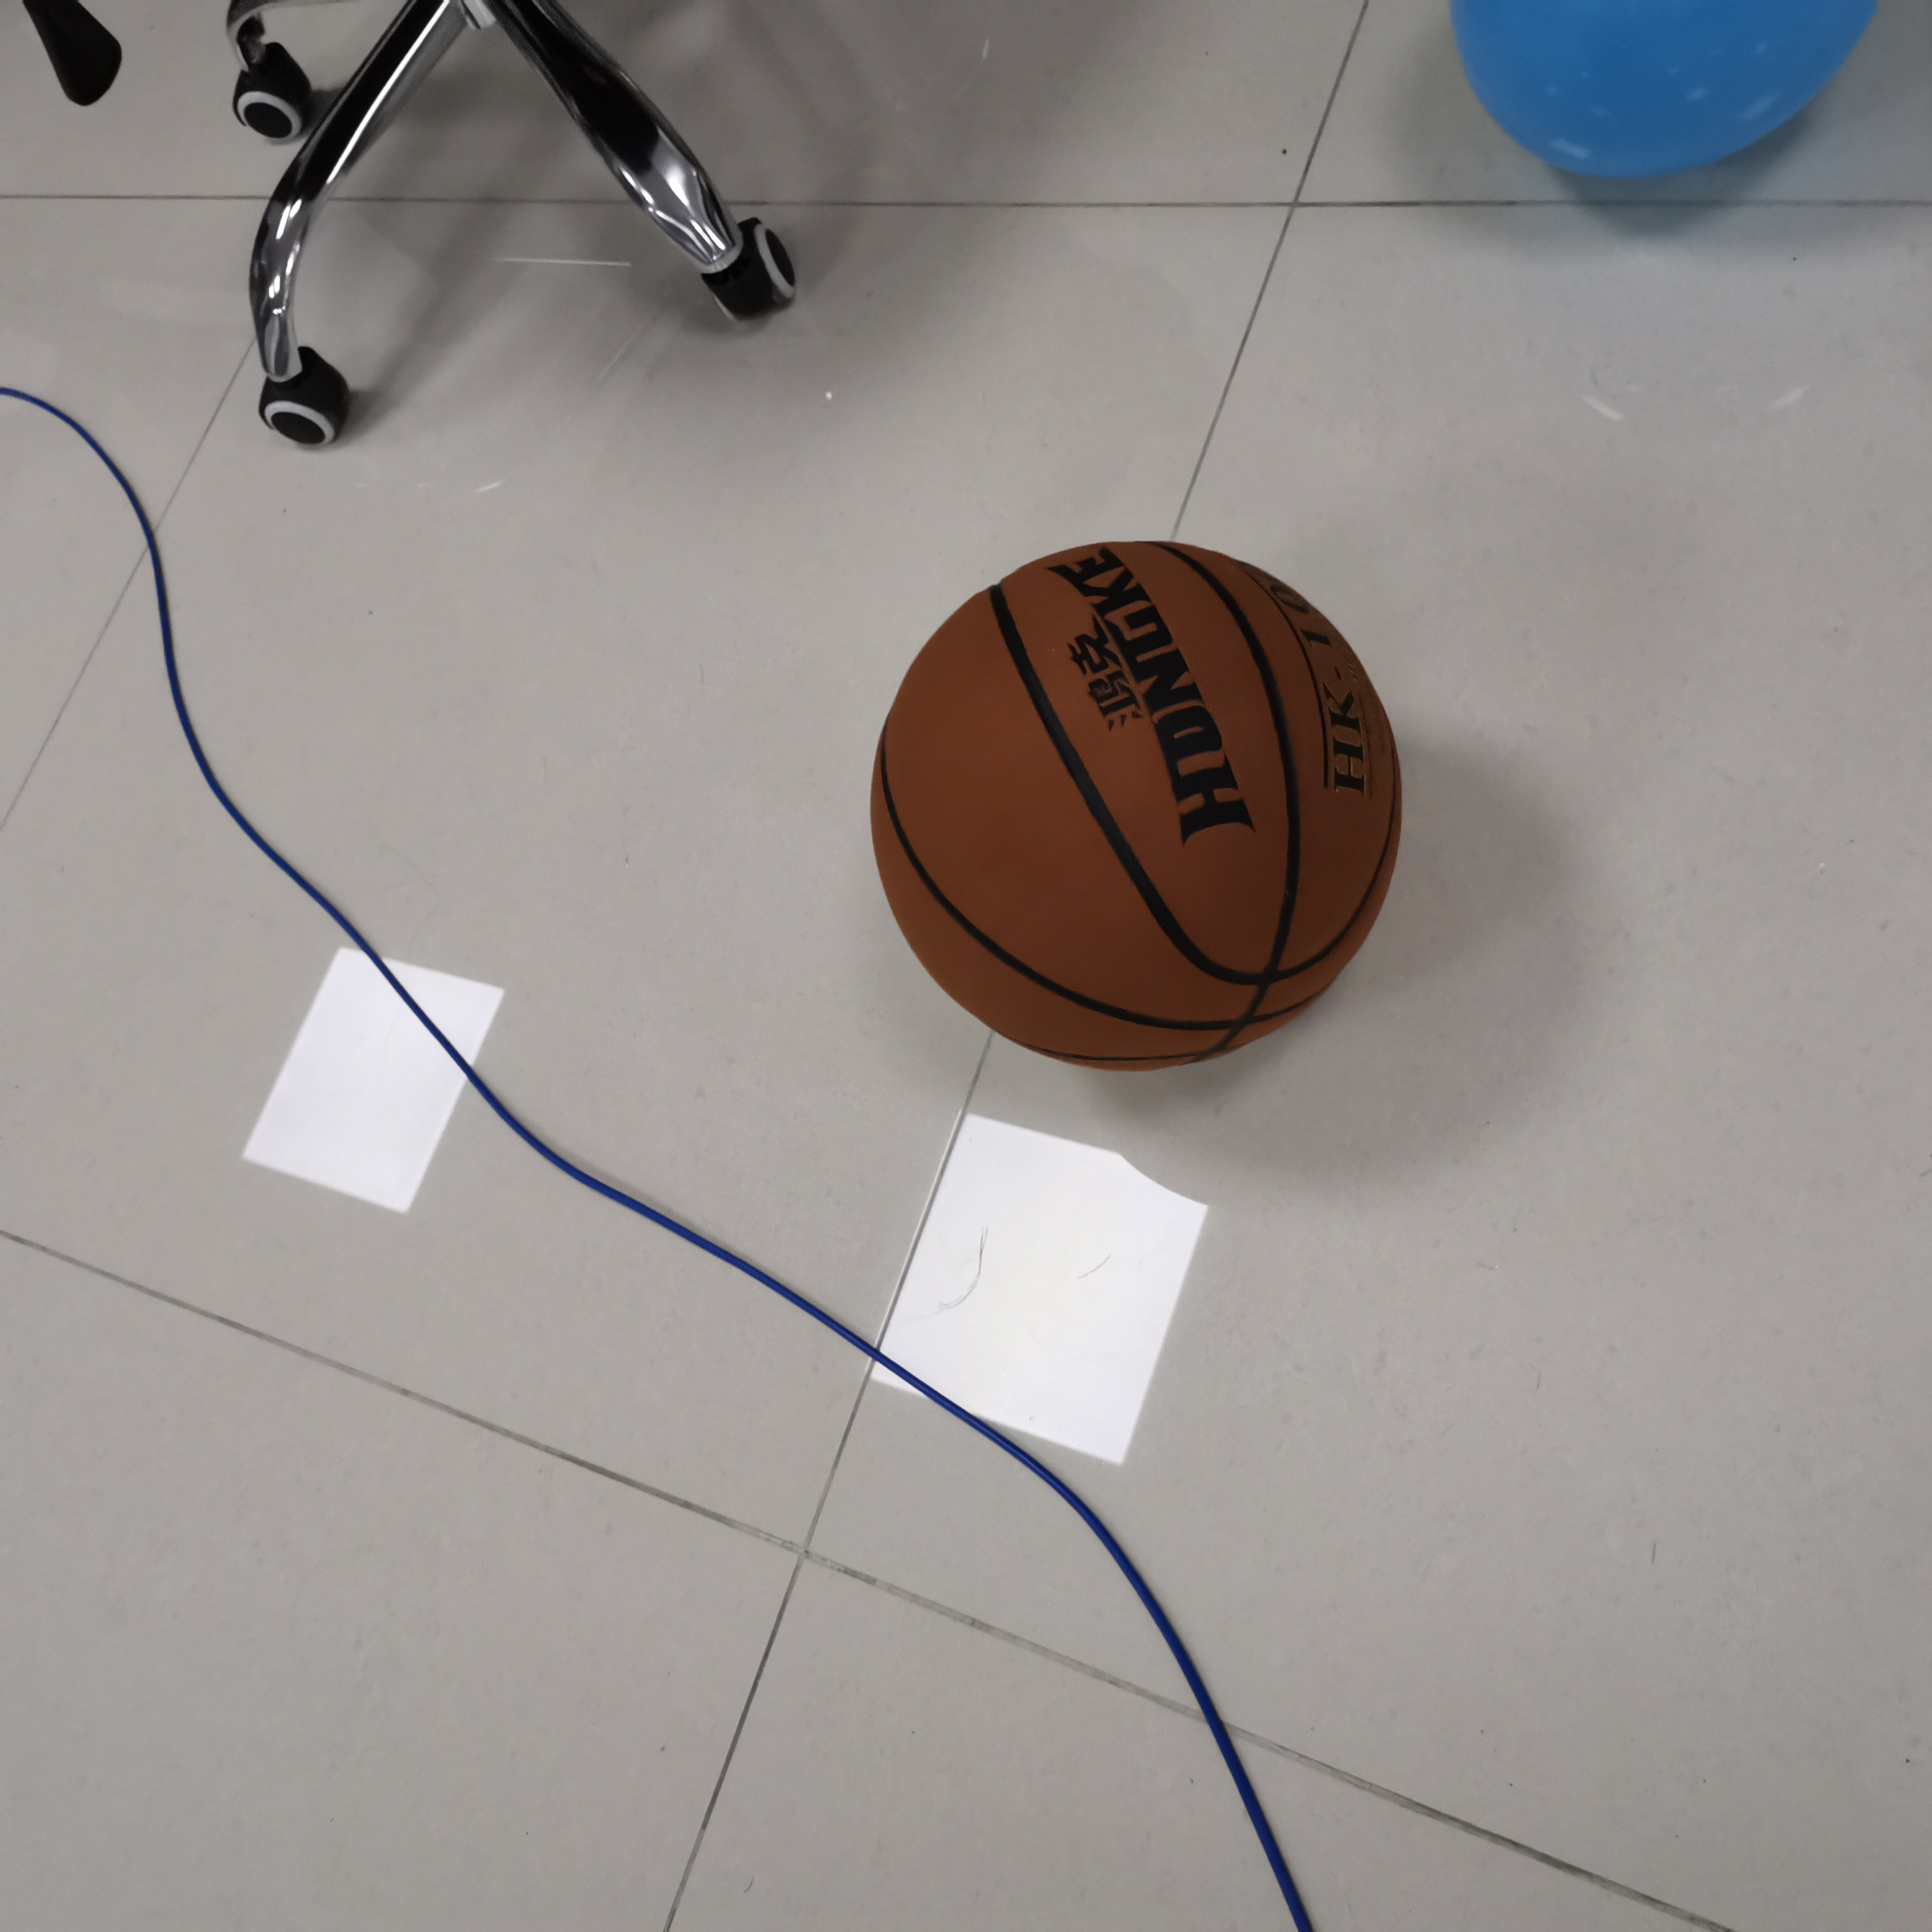basketball: (870, 540, 1403, 1074)
